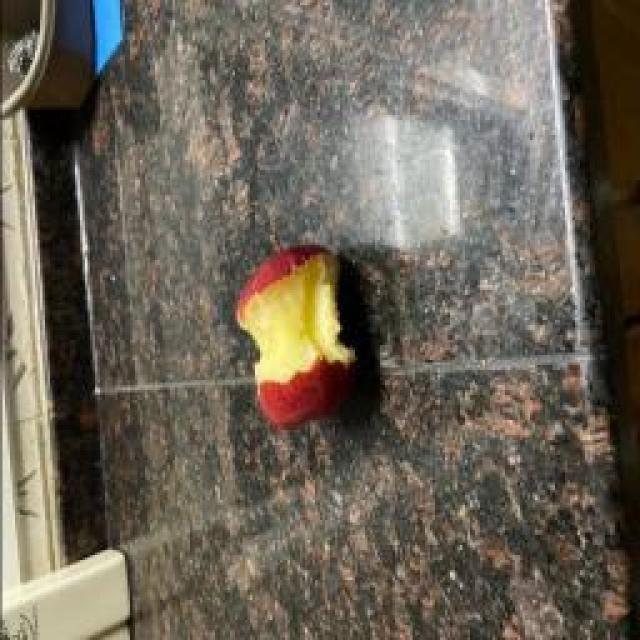Apple: (236, 246, 355, 428)
